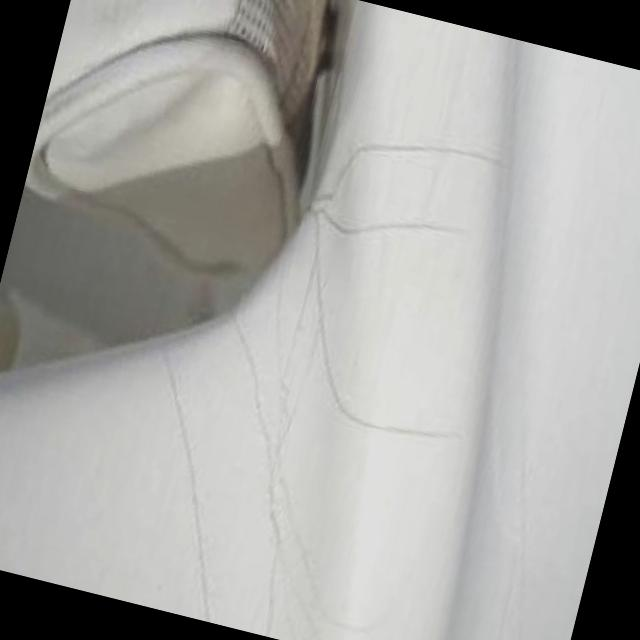crack: (322, 368, 452, 468), (326, 186, 450, 272), (332, 114, 476, 188)
